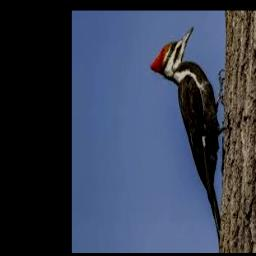Woodpecker: (150, 26, 226, 246)
